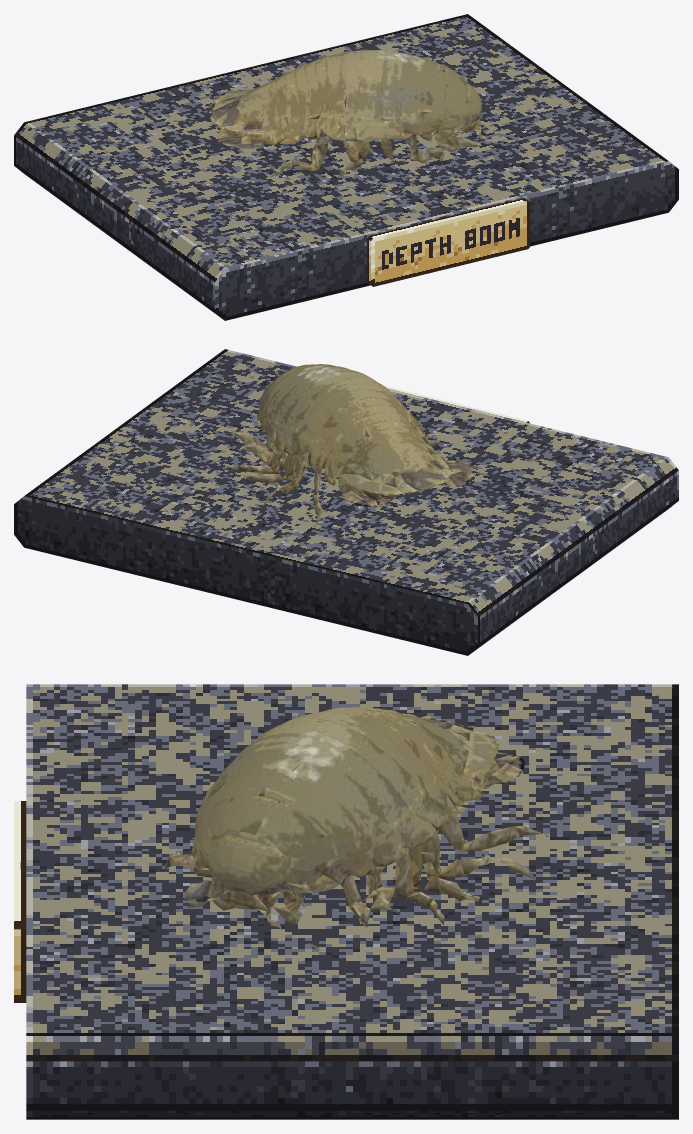
The model's file is isopod.glb.
The picture shows the model from 3 angles, top to bottom: view 1: azimuth 30°, elevation 25°; view 2: azimuth 150°, elevation 25°; view 3: azimuth 270°, elevation 25°; orthographic projection. The views are drawn at different scales.
Visible parts, largest first — view 1: base, model_bug, plate; view 2: base, model_bug; view 3: base, model_bug, plate.
Part boxes in pixels (bbox=[...]): base: bbox=[14, 14, 678, 320]; model_bug: bbox=[209, 49, 483, 177]; plate: bbox=[367, 198, 530, 286]; base: bbox=[14, 349, 678, 655]; model_bug: bbox=[226, 364, 483, 526]; base: bbox=[26, 684, 678, 1119]; model_bug: bbox=[164, 707, 547, 950]; plate: bbox=[14, 801, 26, 1002].
Bounding box in the file's own units: 32 × 9.31 × 24.45.
Materials: 2 (2 with a texture image).
